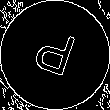P_S: (29, 25, 81, 85)
